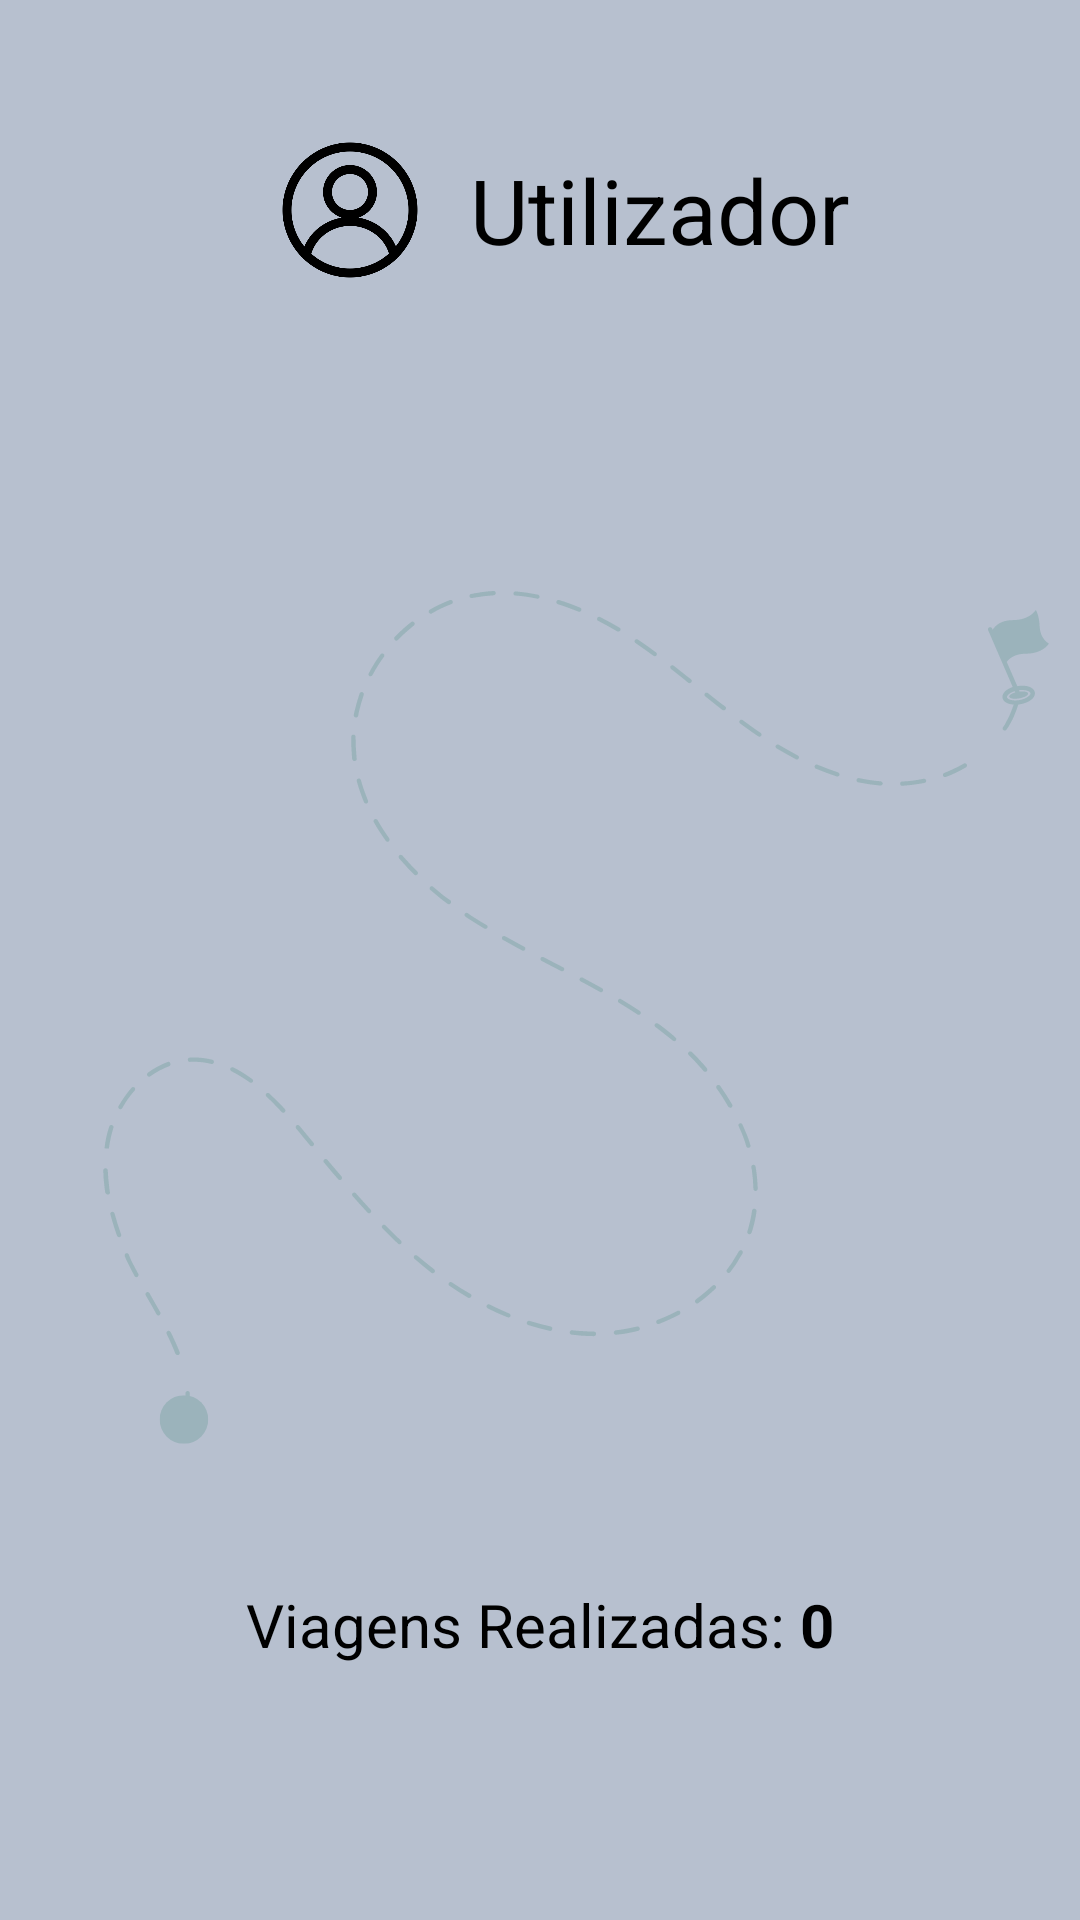

Named icons in this screenshot (1080x1920) and their bounding boxes, Rect(x1, y1, x2, y2):
nome: Rect(282, 142, 418, 278)
